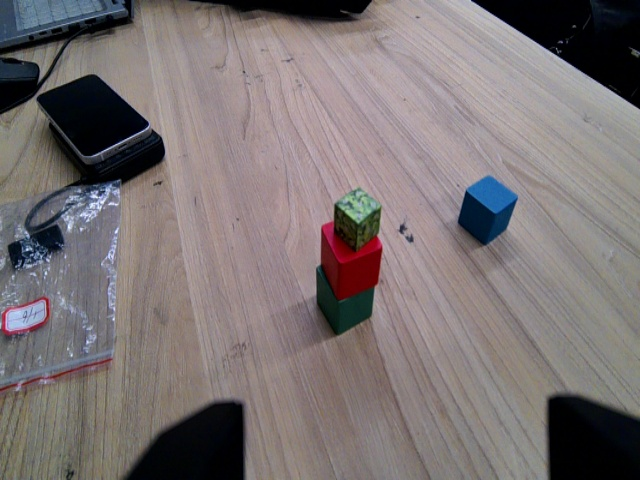grass: (333, 188, 386, 249)
